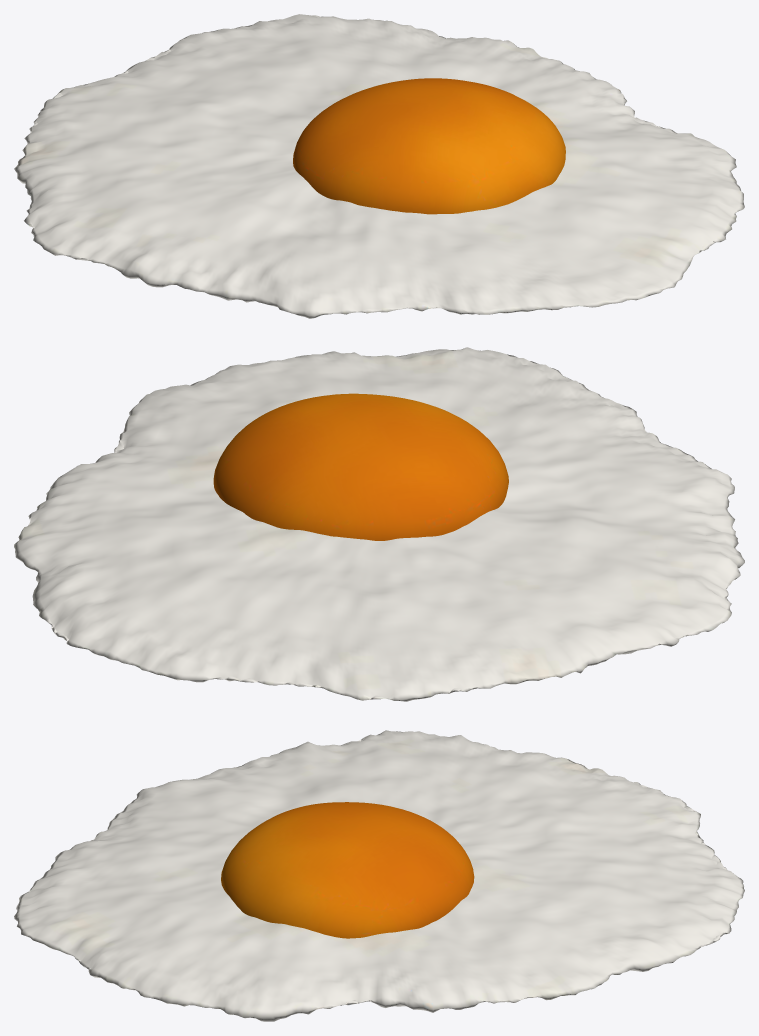
File: egg_fried.glb
3 views of the same model, one above another, from view 1: azimuth 30°, elevation 25°; view 2: azimuth 150°, elevation 25°; view 3: azimuth 270°, elevation 25° (orthographic). The views are drawn at different scales.
Visible parts, largest first — view 1: egg_fried_web; view 2: egg_fried_web; view 3: egg_fried_web.
Part boxes in pixels (box(x1,y1,x2,y2)): egg_fried_web: box(14, 14, 744, 318); egg_fried_web: box(14, 347, 744, 701); egg_fried_web: box(14, 730, 744, 1021).
Size of the model in its own units: 0.1069 by 0.0148 by 0.1156.
1 material, 1 textured.
